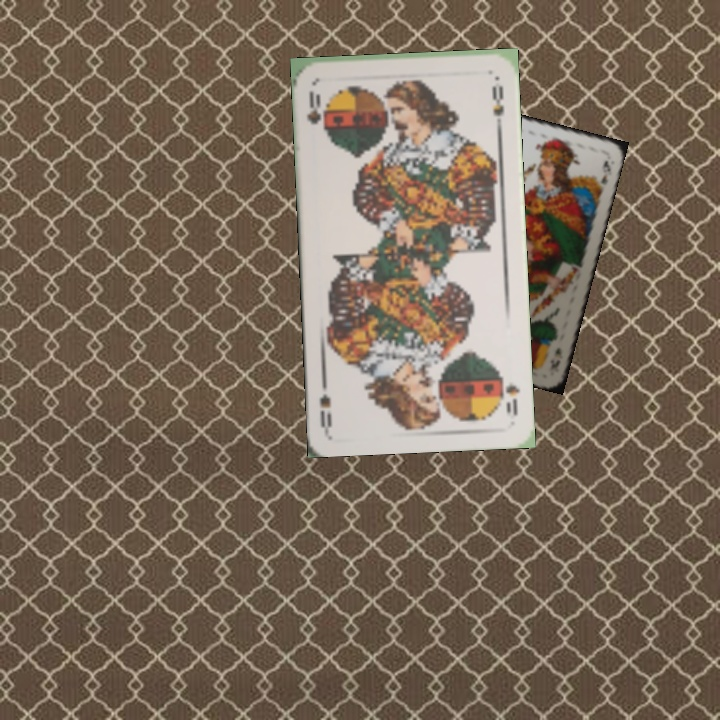EK: (547, 343, 564, 373)
SO: (303, 87, 327, 135), (502, 380, 523, 418)
